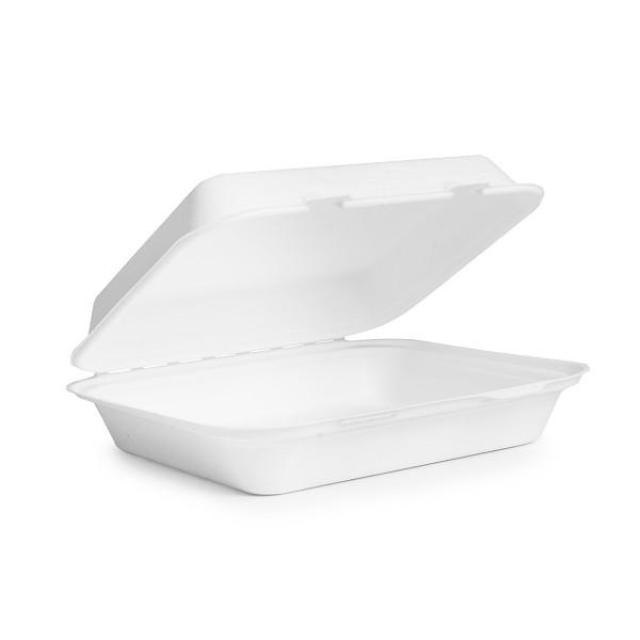styrofoam: (65, 150, 590, 495)
